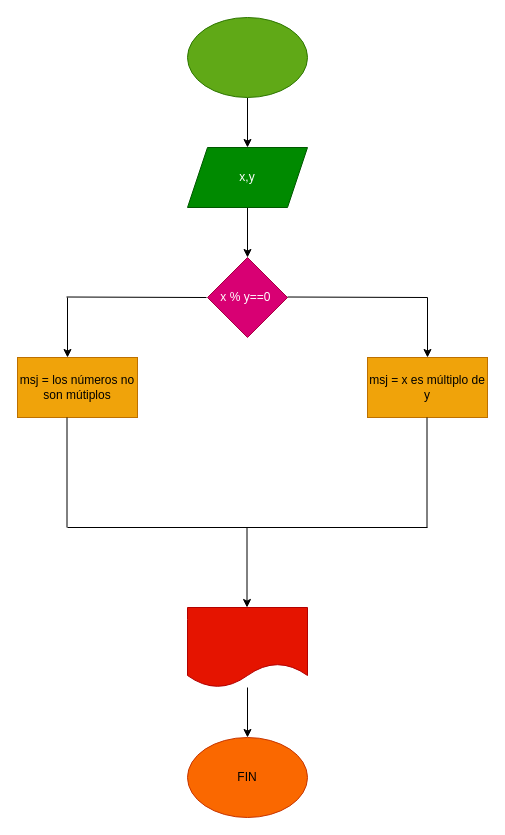
This 505x835 diagram has some shape labels left out. The shapes that lost their labels are listed below. From the top down, each one's centre as x and y in pixels, then its label:
At (x=247, y=57): "INICIO".
At (x=247, y=647): "msj".
